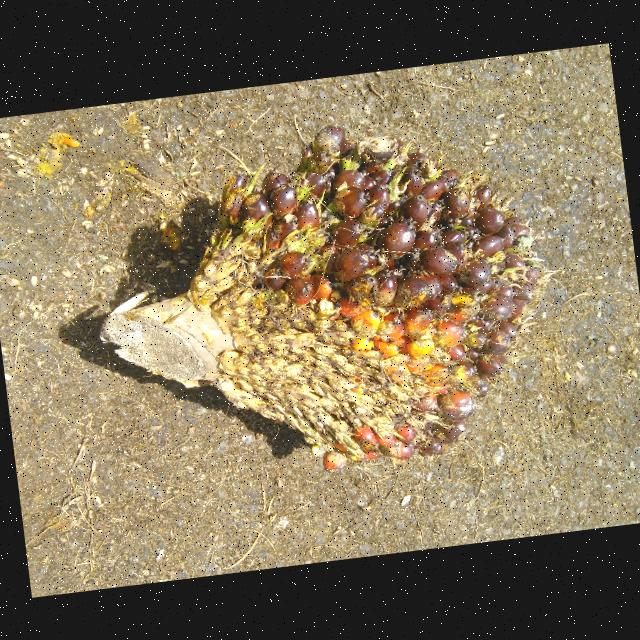Unripe: (194, 140, 545, 473)
